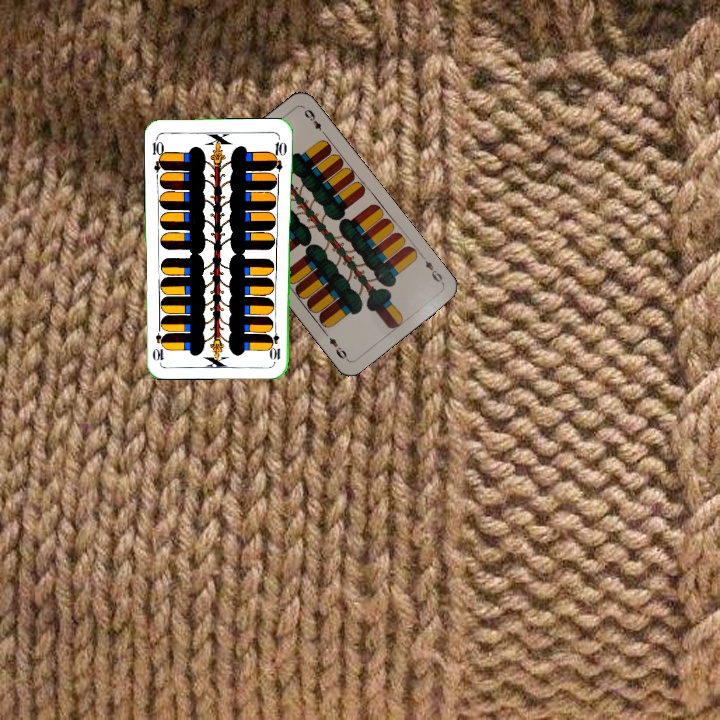E10: (148, 134, 167, 174), (269, 322, 283, 362)
E9: (417, 252, 446, 287)
